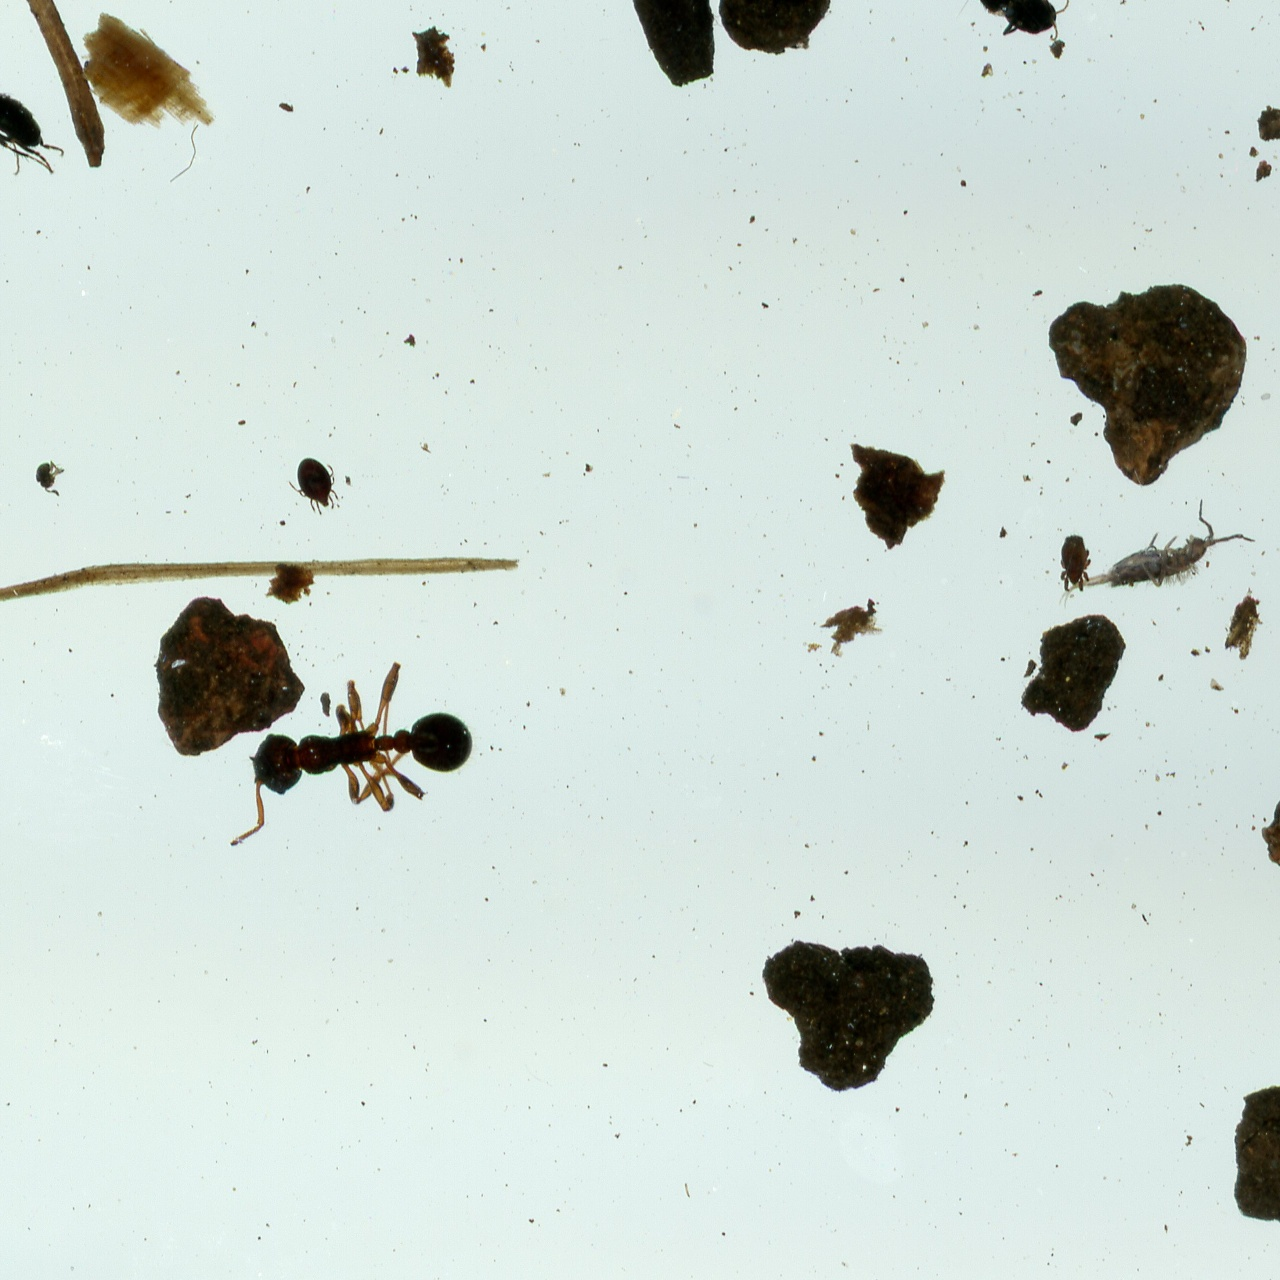arthropod: (194, 646, 490, 858), (1036, 485, 1270, 619), (949, 0, 1088, 60), (0, 71, 68, 183), (277, 443, 354, 528), (1056, 532, 1095, 595)
